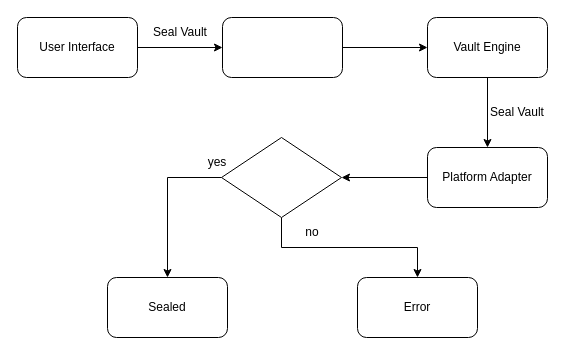
This 565x355 diagram has some shape labels left out. Here are the shapes that lost their labels. From the top down, the centre of each, then its label:
the point at 282,47: Vault Controller
the point at 281,177: Vault Sealed?
